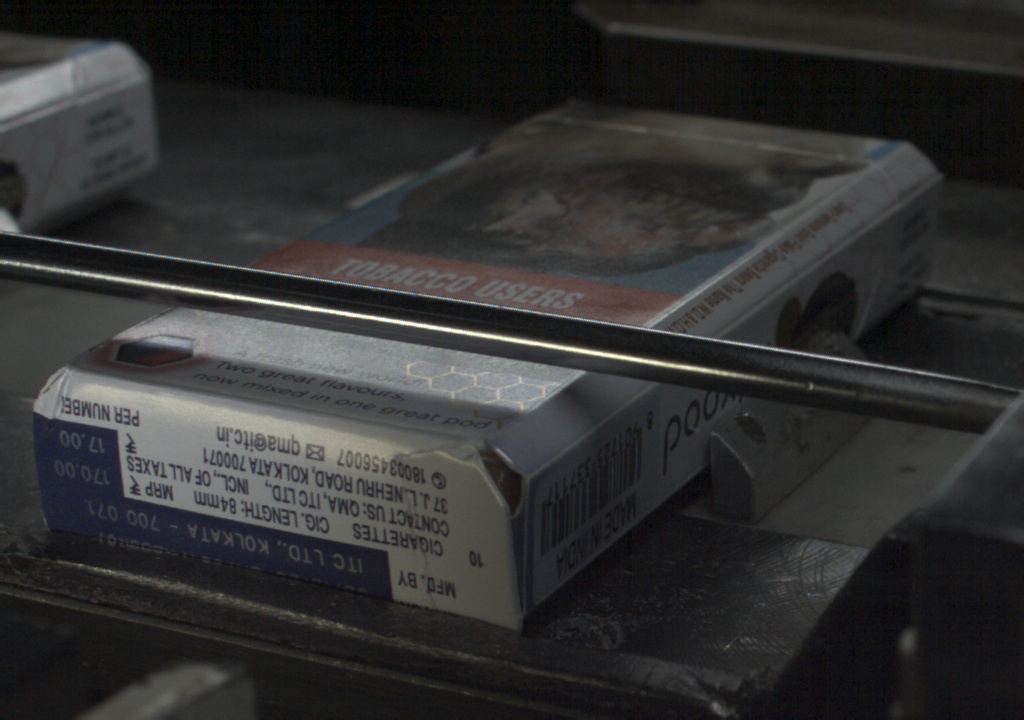g_label: (41, 493, 391, 599)
g_lmiter: (715, 268, 808, 336), (808, 203, 893, 267), (527, 424, 596, 477), (596, 382, 653, 424)
g_miter: (897, 165, 940, 202)
ng_bottom: (388, 427, 529, 530), (31, 367, 68, 453)
price: (34, 418, 134, 492)
